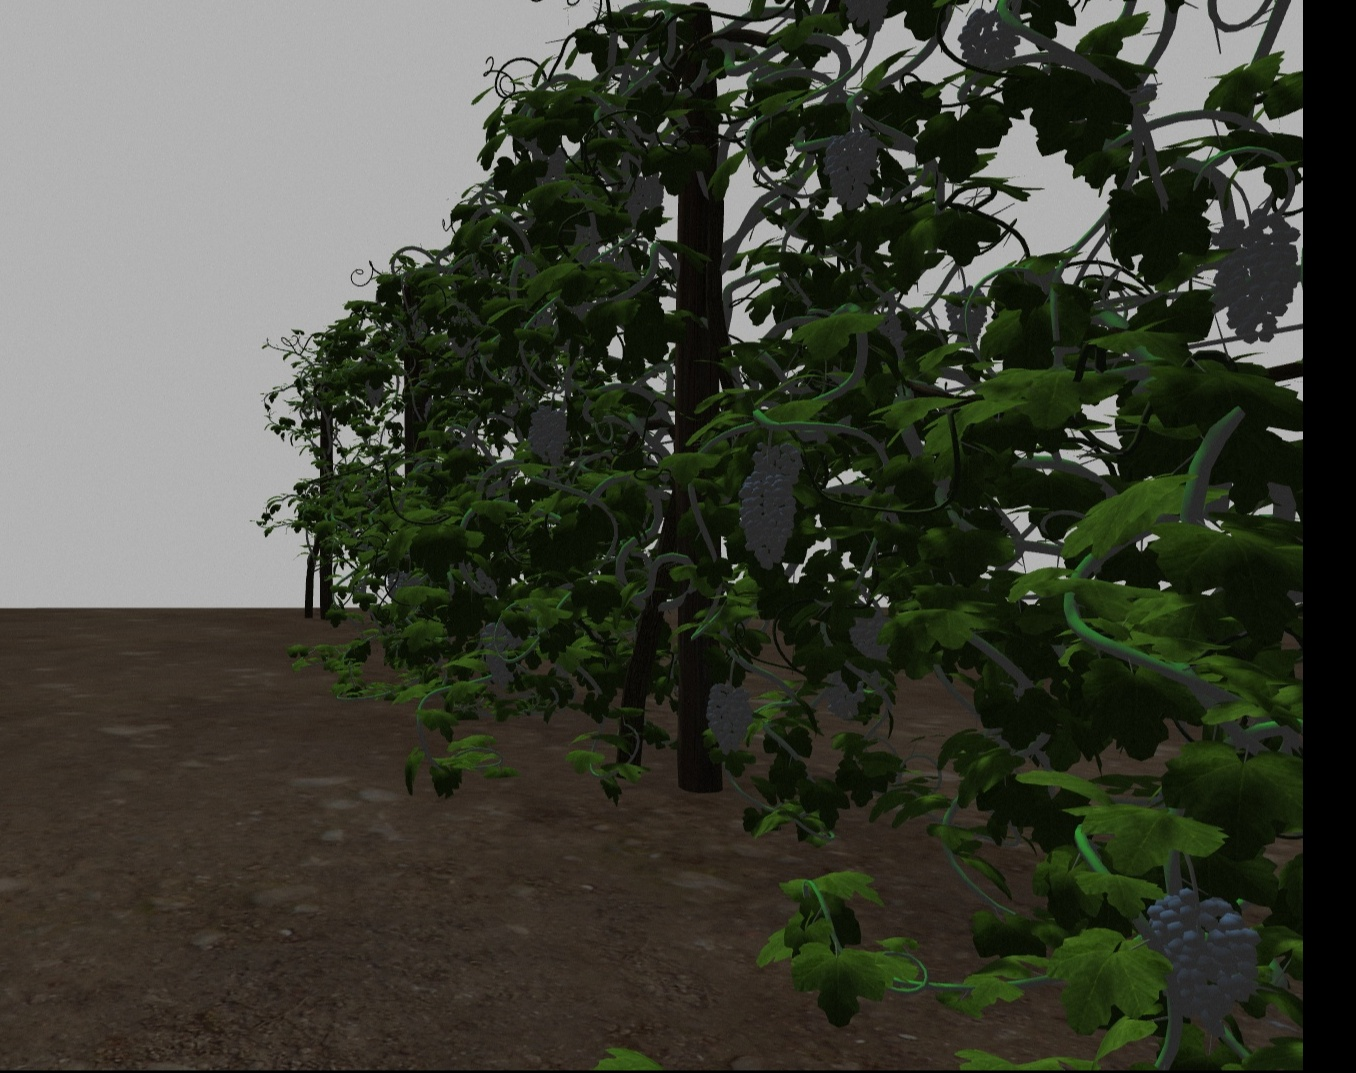grape: (1141, 886, 1264, 1039), (1209, 212, 1301, 344), (736, 473, 791, 571), (821, 127, 877, 211), (958, 10, 1018, 87), (702, 681, 752, 757), (943, 286, 989, 344), (479, 621, 517, 690), (847, 615, 890, 677), (526, 406, 567, 462), (751, 442, 800, 480), (825, 679, 865, 719), (624, 179, 647, 225), (641, 173, 665, 211)
